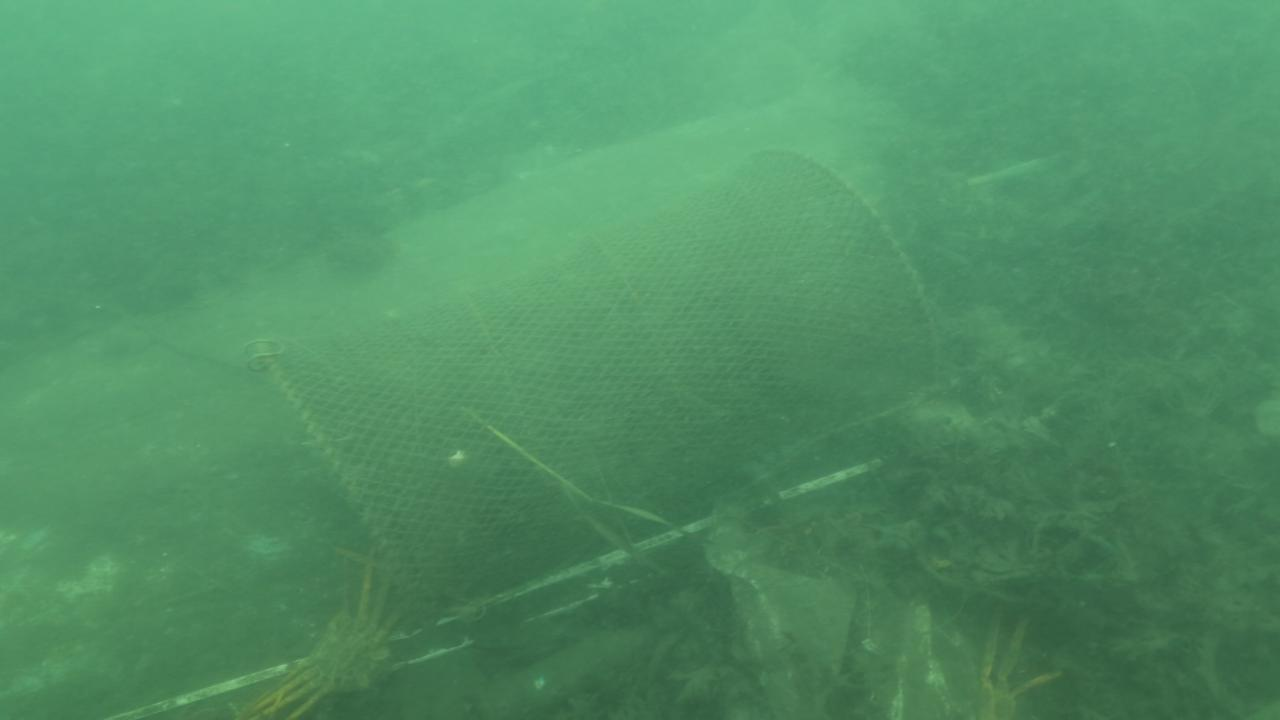spring fish trap: (247, 145, 950, 611)
